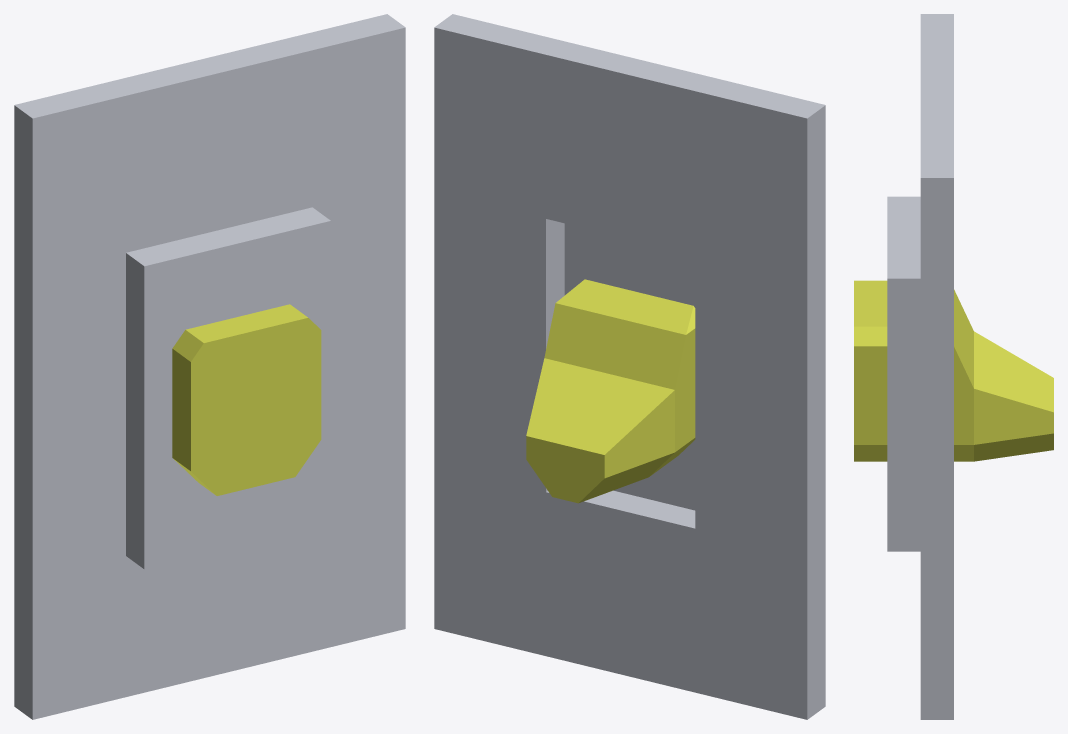
The model's file is shipInterior_lightSwitch.glb.
The picture shows the model from 3 angles, left to right: view 1: azimuth 30°, elevation 25°; view 2: azimuth 150°, elevation 25°; view 3: azimuth 270°, elevation 25°; orthographic projection. The views are drawn at different scales.
Parts seen in each view (by area): view 1: roof_flatCenter (×5), hull_cockpitNose; view 2: roof_flatCenter (×5), hull_cockpitNose; view 3: roof_flatCenter (×4), hull_cockpitNose.
Boxes of the visible parts, left/top/right/bottom form: roof_flatCenter (×5): left=14, top=14, right=405, bottom=719; hull_cockpitNose: left=172, top=304, right=321, bottom=495; roof_flatCenter (×5): left=434, top=14, right=825, bottom=719; hull_cockpitNose: left=526, top=279, right=695, bottom=503; roof_flatCenter (×4): left=887, top=14, right=953, bottom=719; hull_cockpitNose: left=854, top=280, right=1053, bottom=461.
Size of the model in its own units: 0.35 by 0.539 by 0.18.
